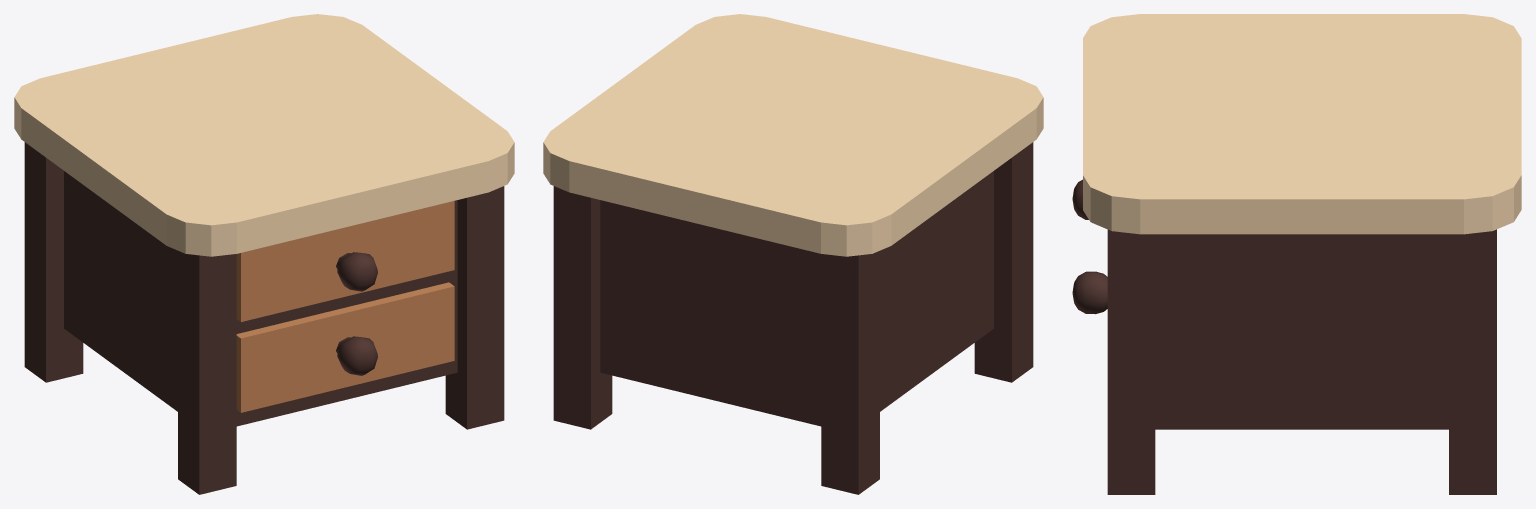
File: Prop_Nightstand_01.fbx
3 views of the same model, side by side, from view 1: azimuth 30°, elevation 25°; view 2: azimuth 150°, elevation 25°; view 3: azimuth 270°, elevation 25° (orthographic). The views are drawn at different scales.
Parts seen in each view (by area): view 1: Prop_Nightstand_01; view 2: Prop_Nightstand_01; view 3: Prop_Nightstand_01.
Boxes of the visible parts, x1,y1,x2,y2 form: Prop_Nightstand_01: (14,14,514,494); Prop_Nightstand_01: (543,14,1043,494); Prop_Nightstand_01: (1072,14,1521,494).
Bounding box in the file's own units: 71.8 × 55.15 × 73.5.
